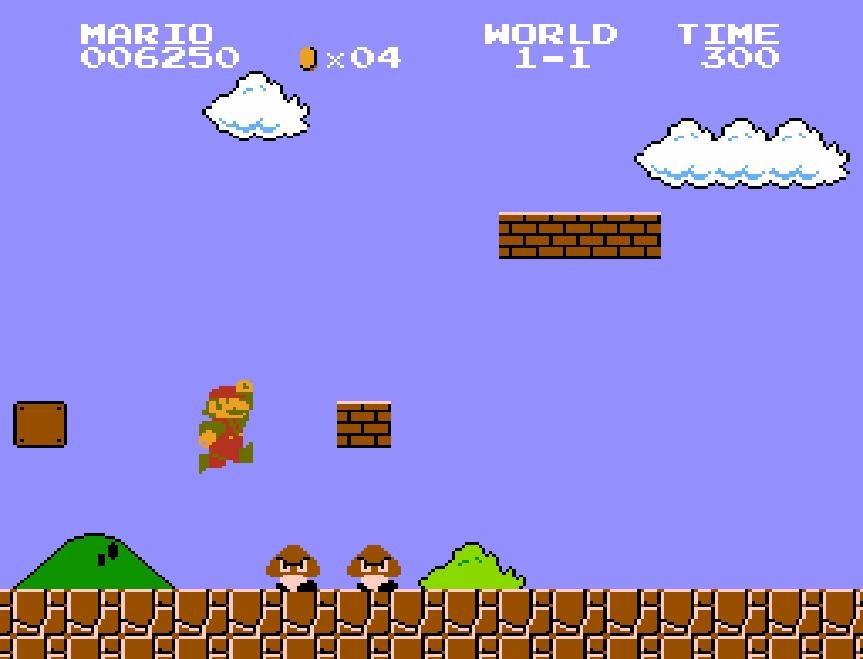big_mario: (196, 378, 254, 476)
